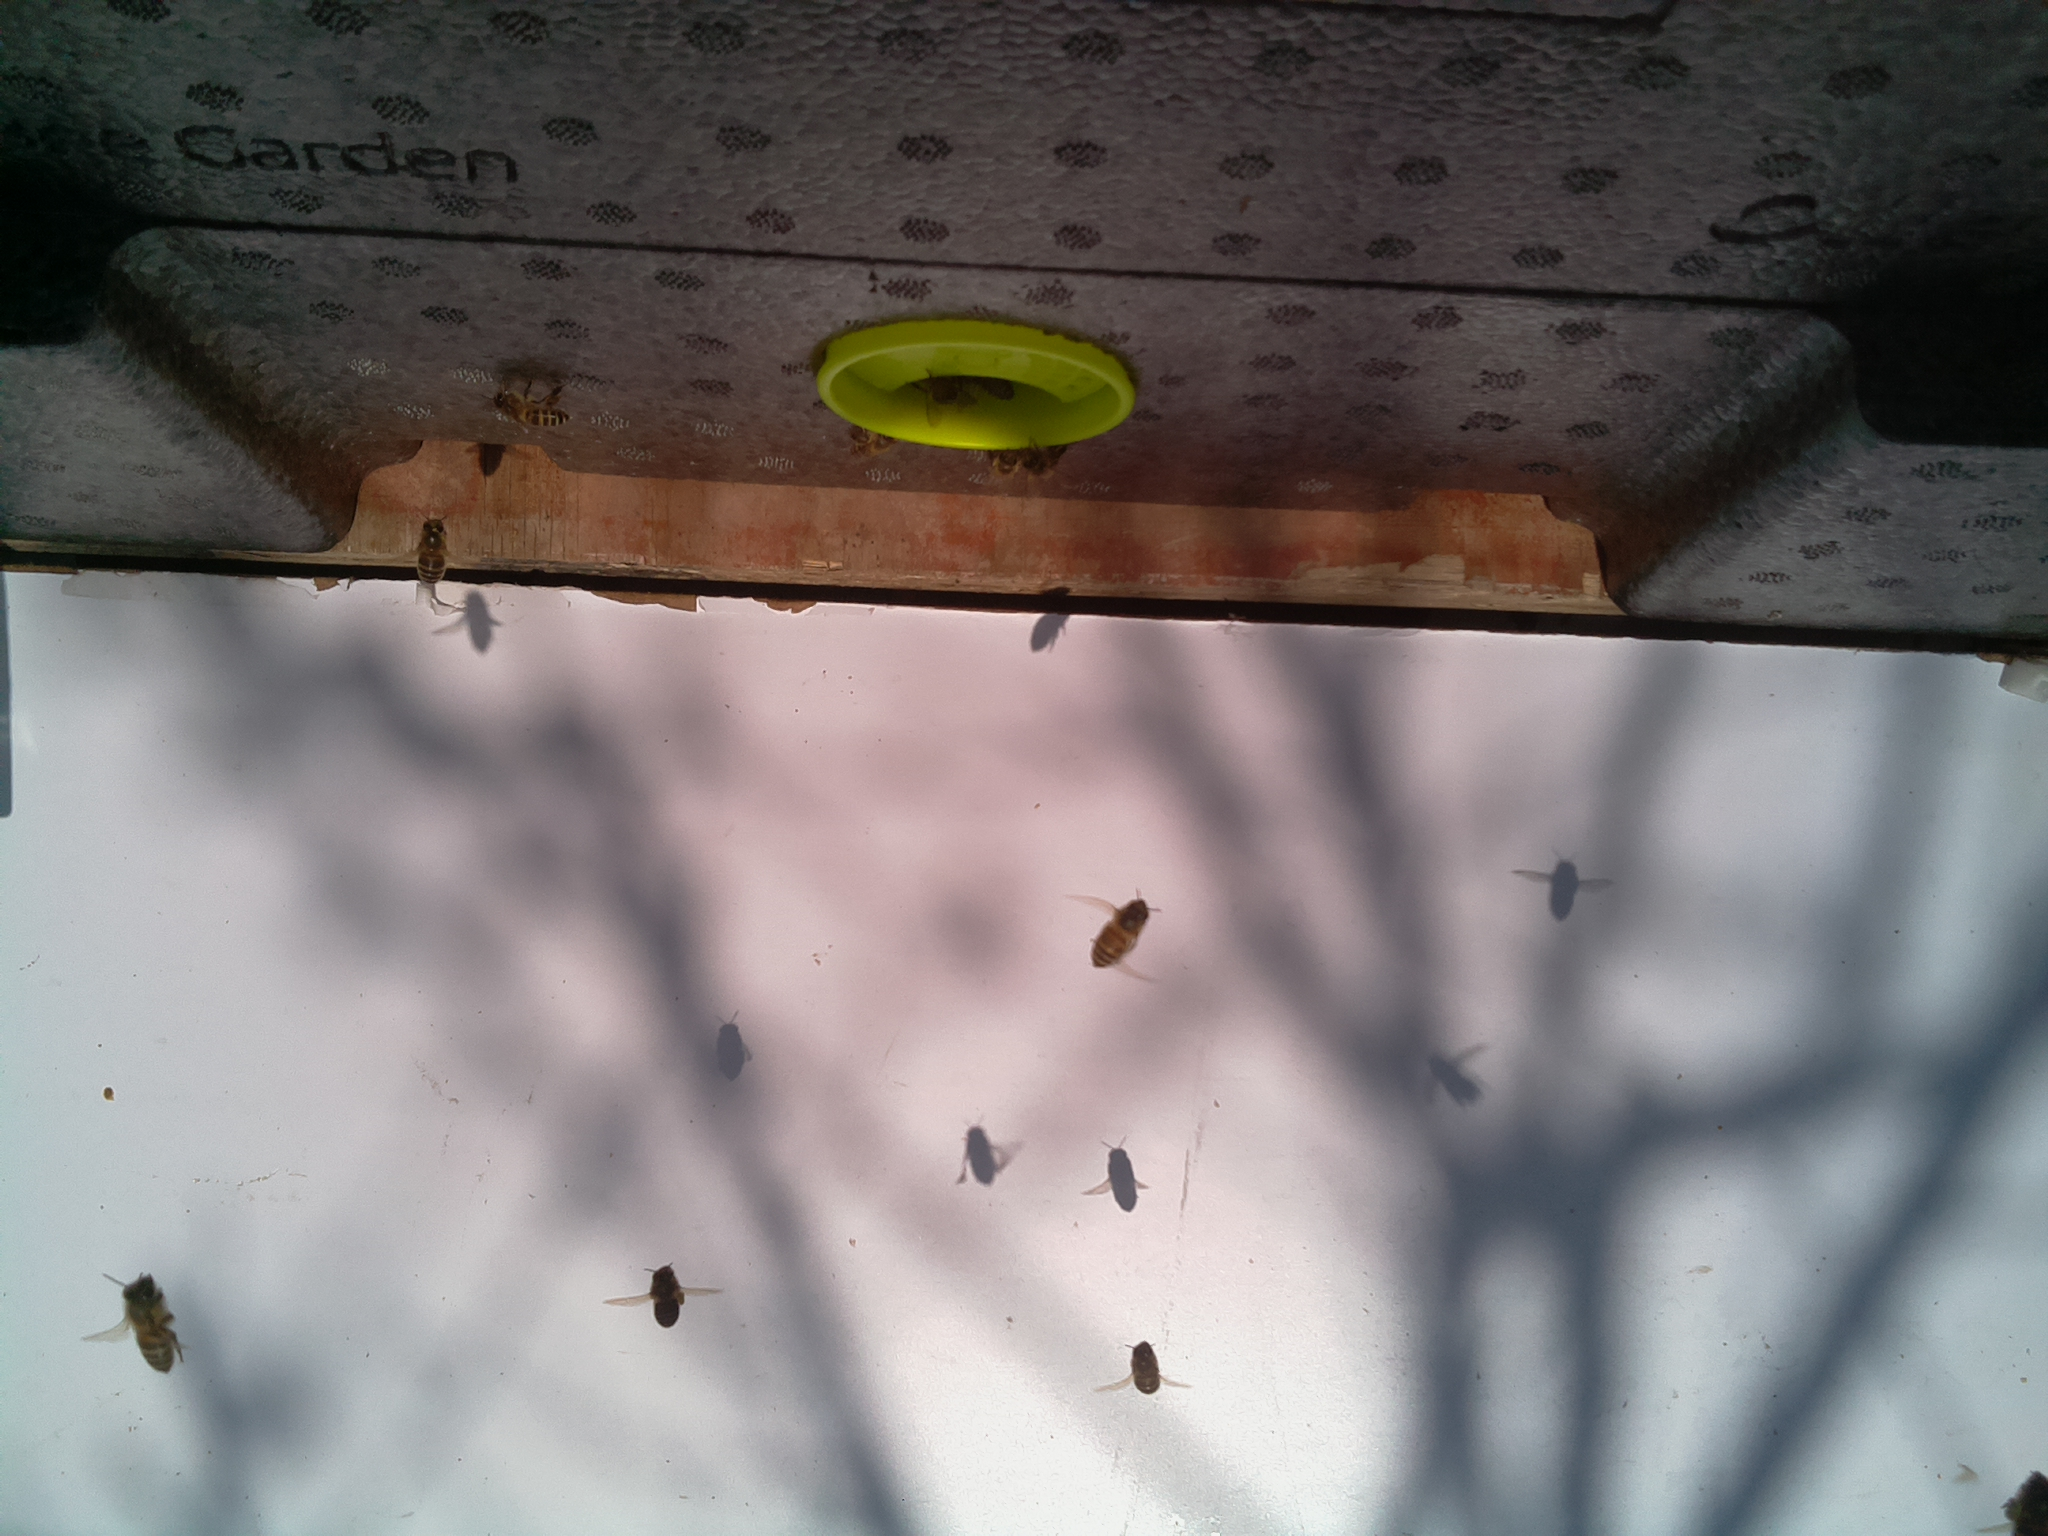bee: (117, 1271, 185, 1374), (1089, 896, 1151, 972), (489, 385, 570, 433), (412, 516, 452, 591), (1126, 1339, 1164, 1397)
